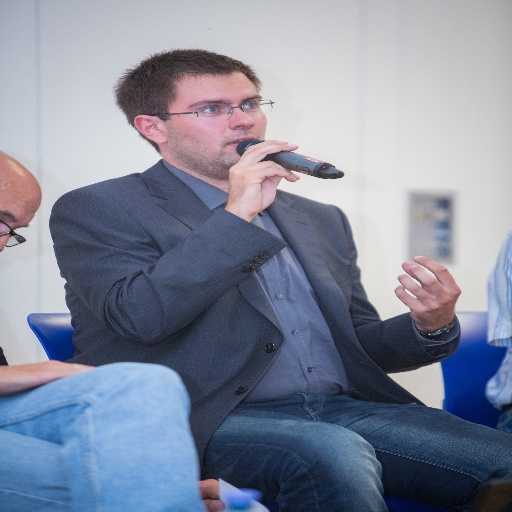hand: (387, 256, 467, 344), (228, 136, 302, 215), (0, 359, 96, 395), (198, 477, 228, 511)
